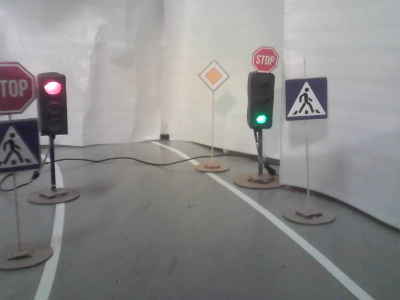crosswalk: (1, 121, 37, 166), (286, 79, 326, 119)
priority_road: (199, 61, 227, 90)
stop: (1, 64, 34, 113), (253, 47, 277, 70)
trafficlight_green: (250, 74, 272, 128)
trafficlight_red: (41, 76, 67, 135)
